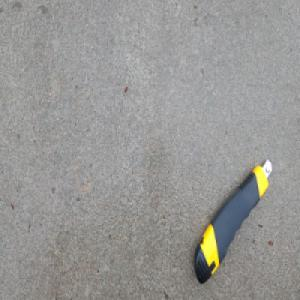Cutter: (192, 154, 273, 283)
